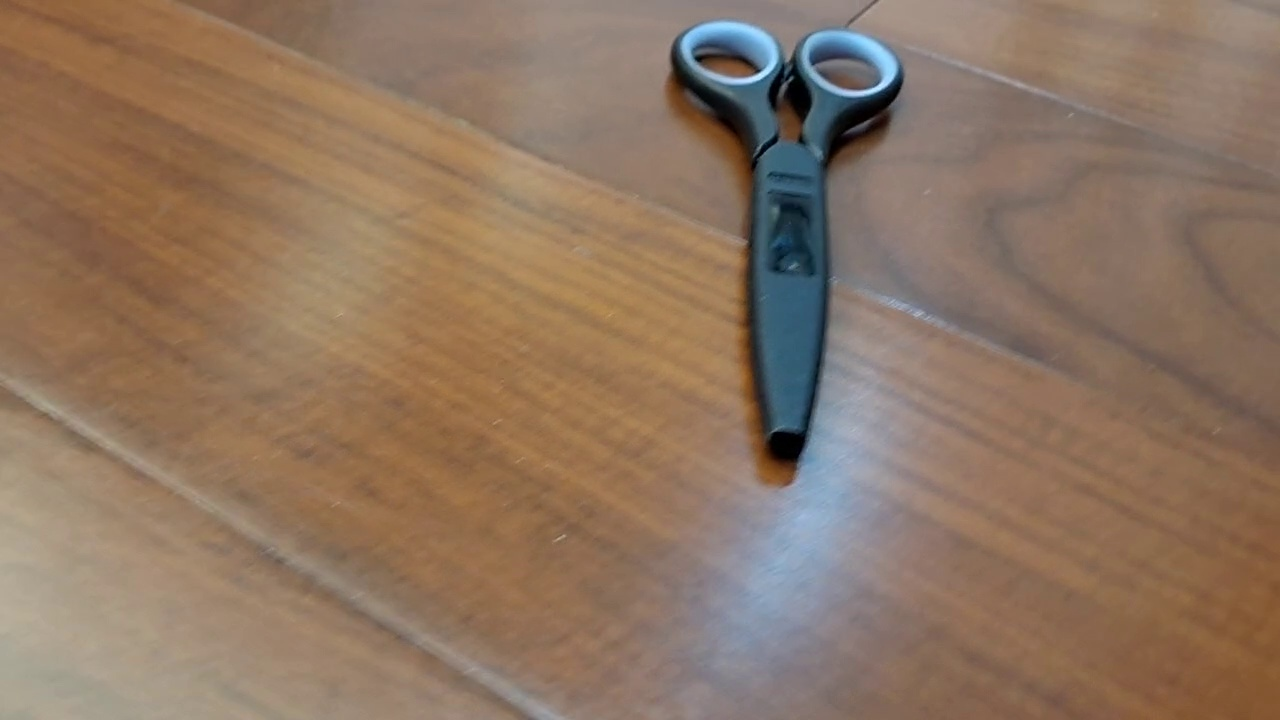scissors: (670, 17, 905, 464)
